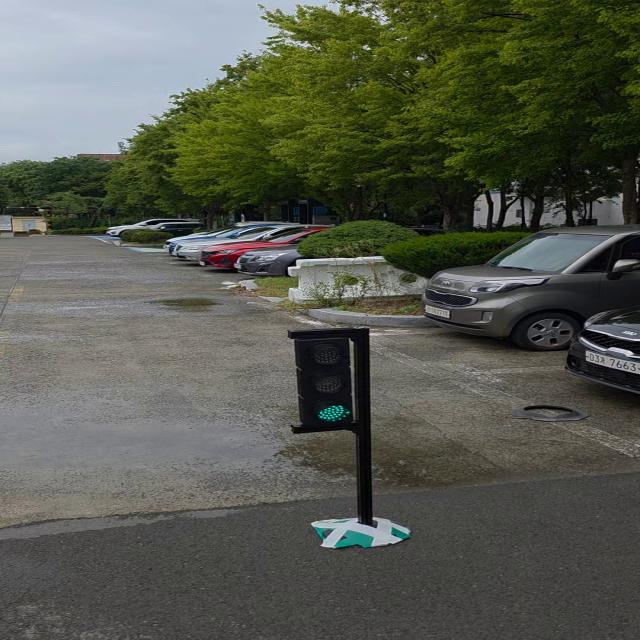green: (301, 332, 370, 430)
